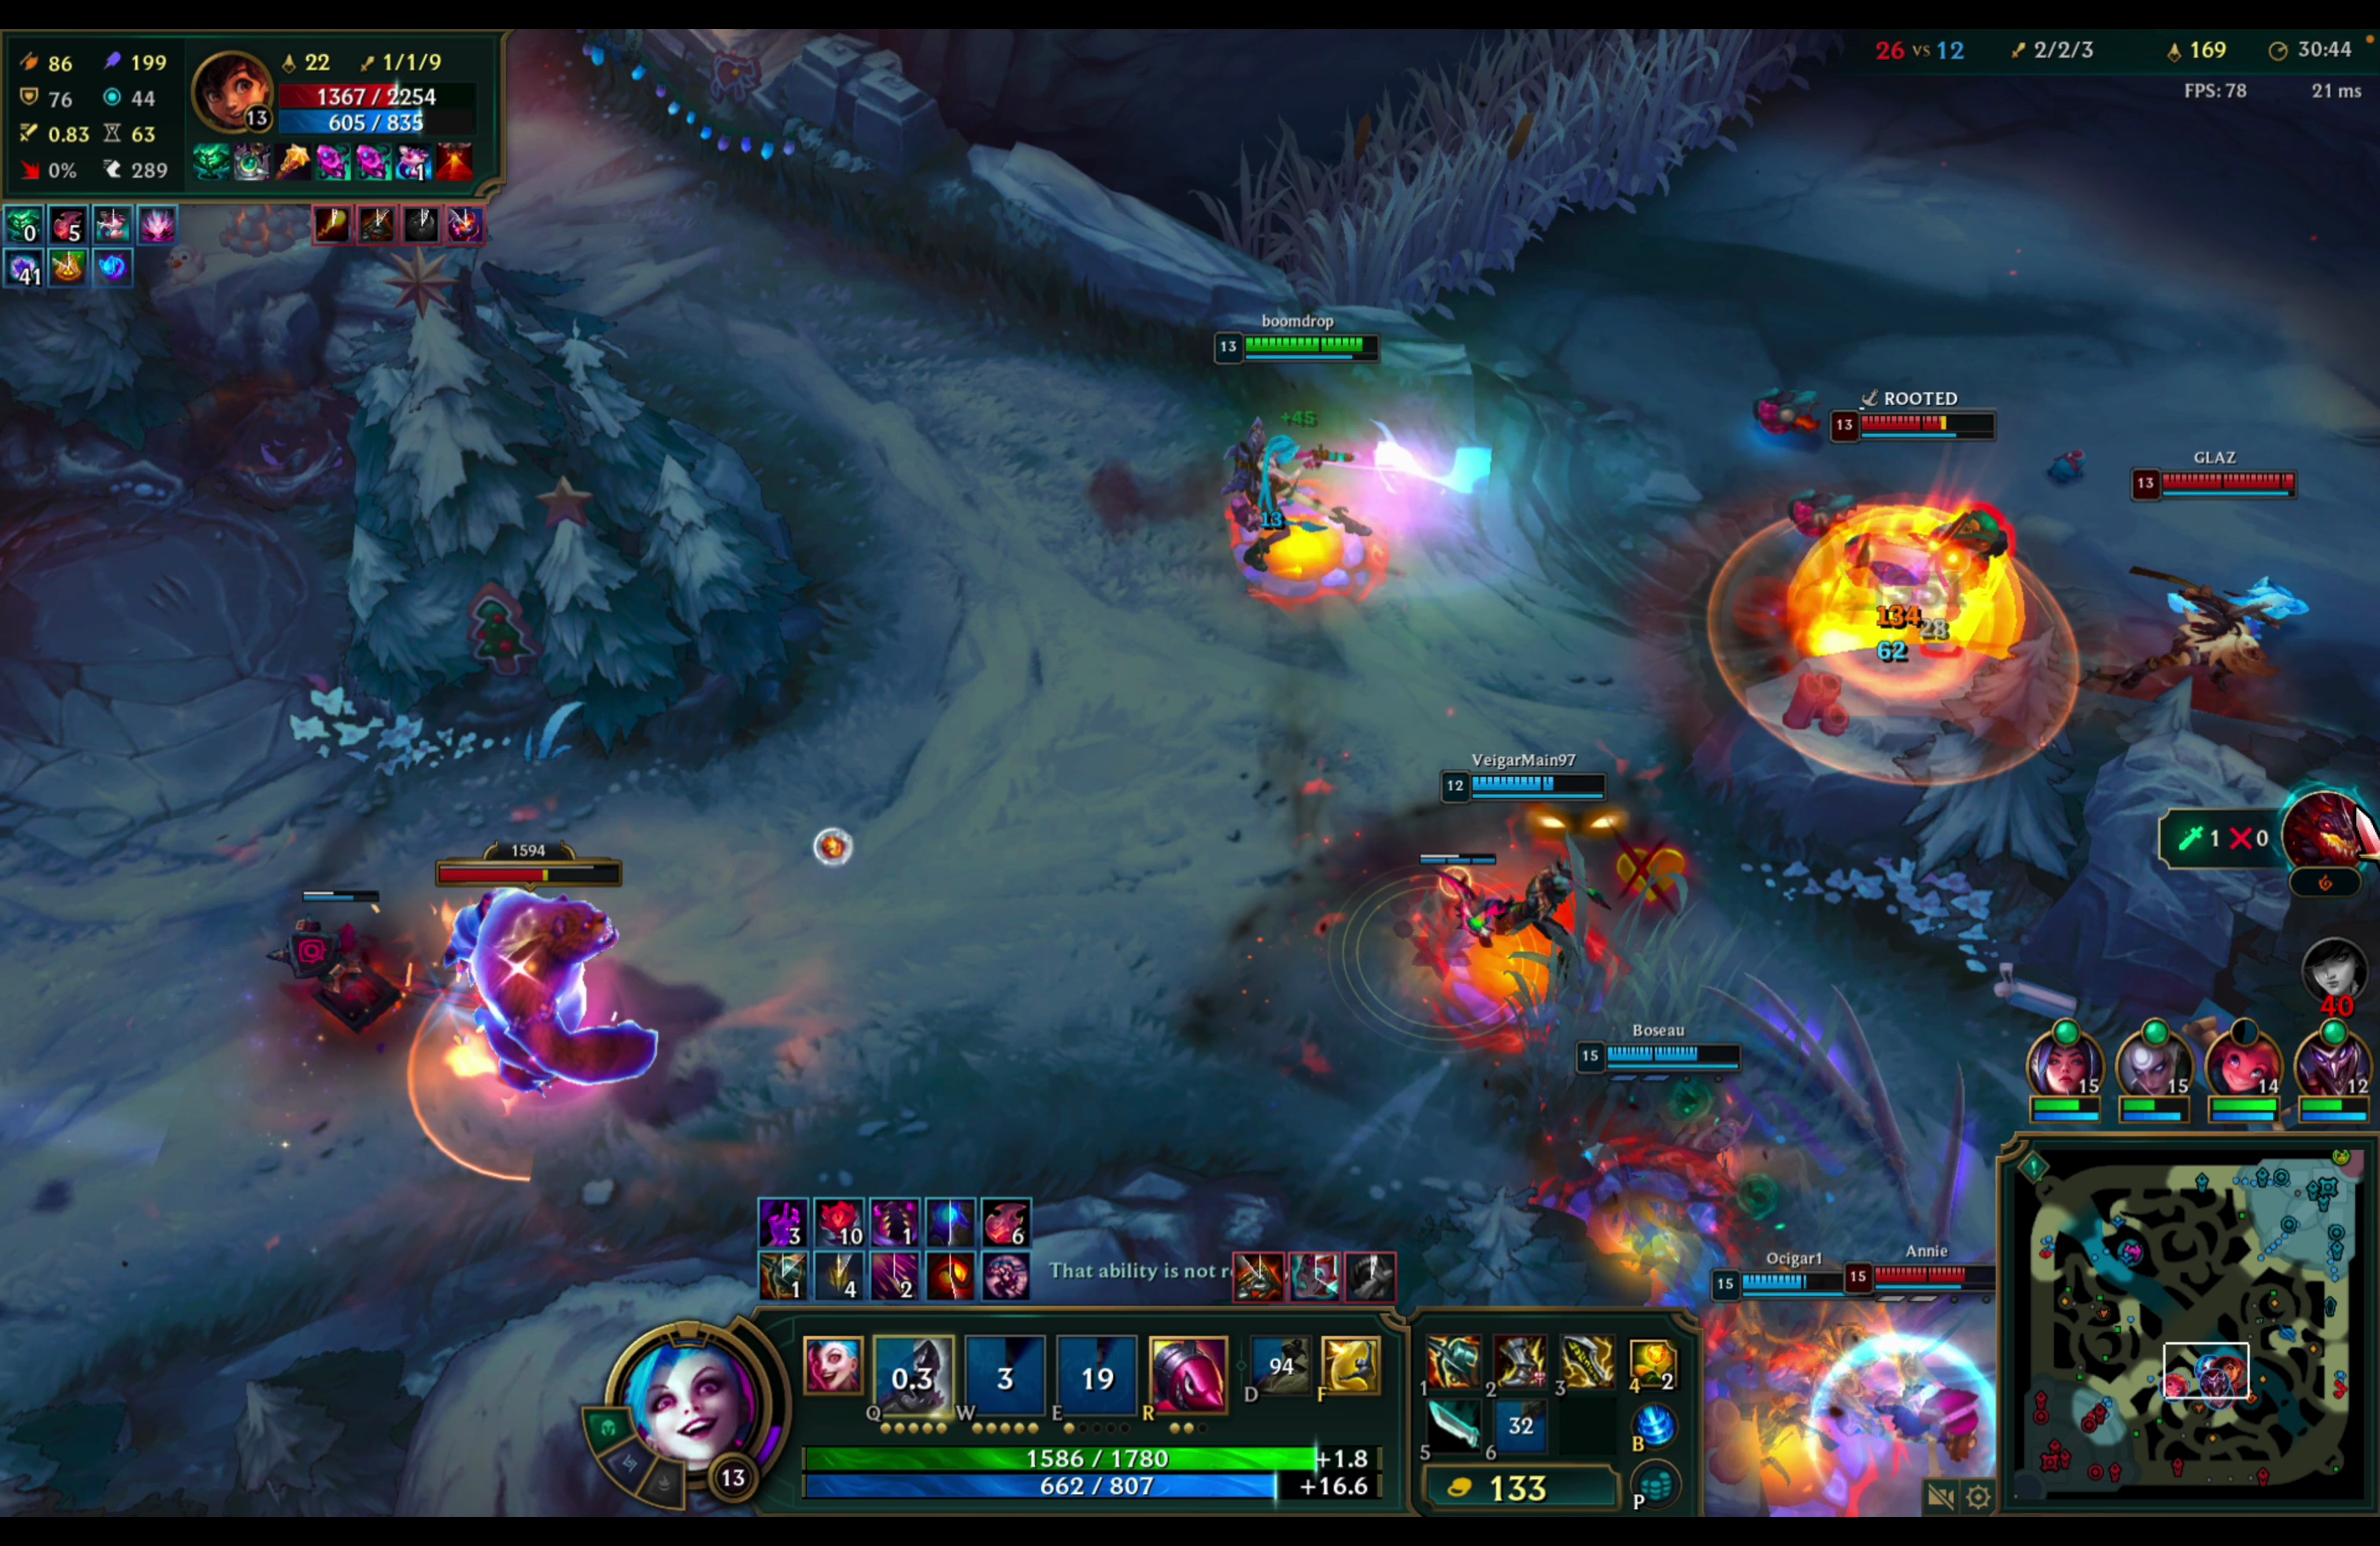JINX_W_PROJECTILE: (1202, 302, 1511, 649)
